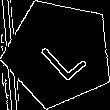L_NW: (30, 24, 88, 82)
